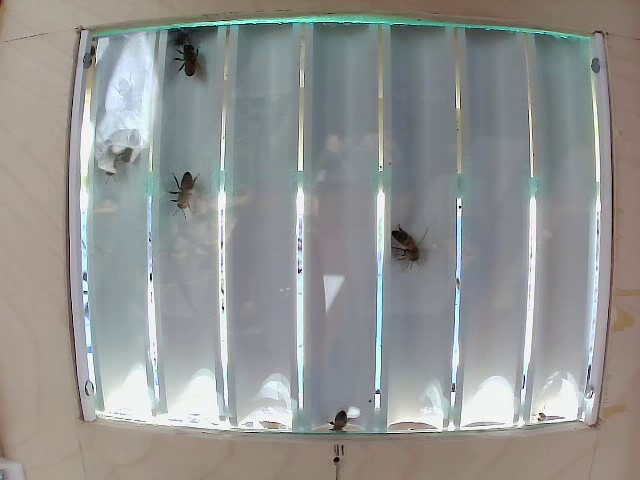bee: (382, 210, 427, 264), (166, 160, 202, 211), (171, 39, 203, 86)
